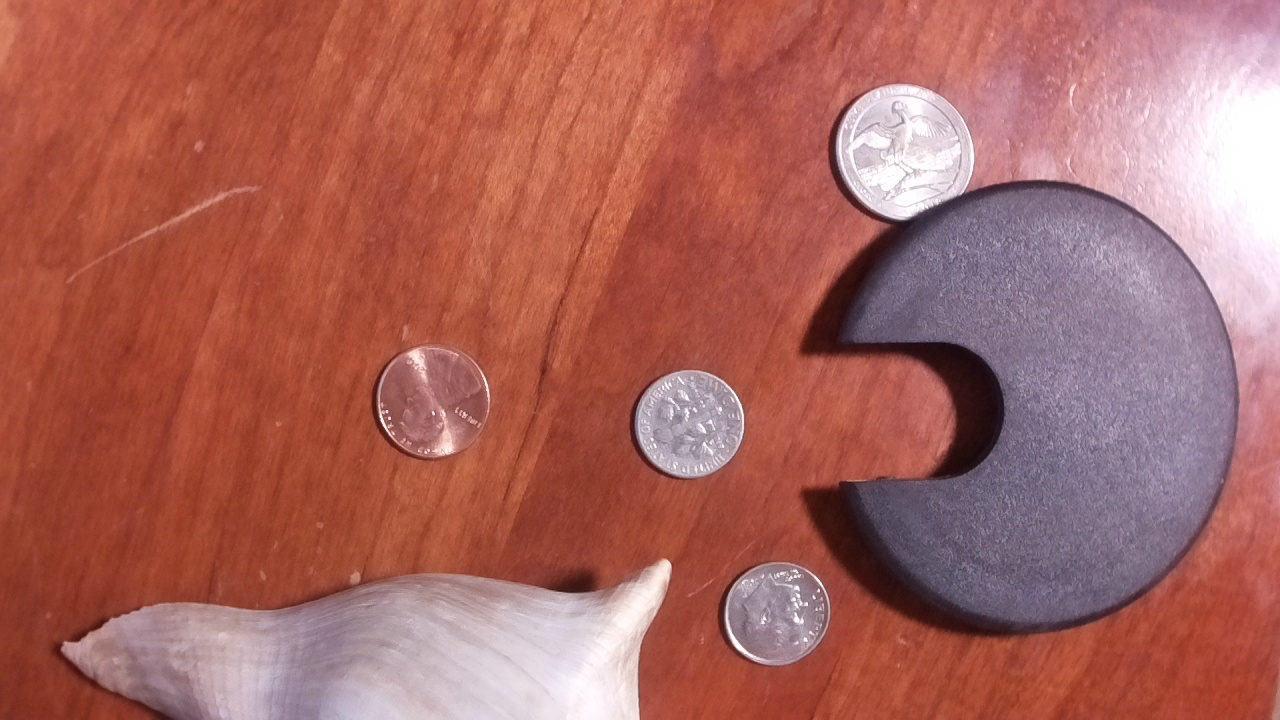dime: (628, 366, 748, 482), (714, 560, 838, 670)
penny: (370, 340, 498, 462)
quarter: (826, 80, 980, 224)
